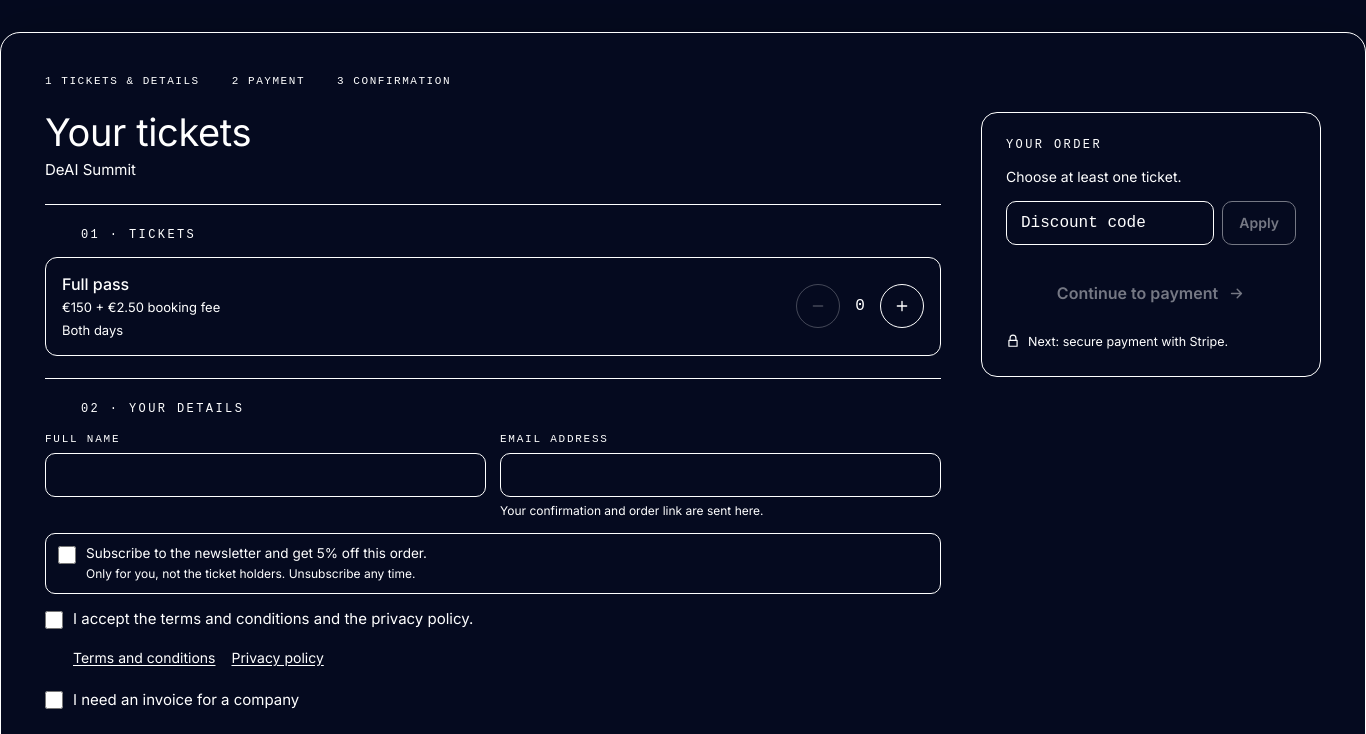
02 · your details — how did you hear about us › asks it (optional) when the site does, with the option labels in the visitor's language, and a text only for 'other'
Click the button named "Add one Full pass" at x=902, y=306, box [880,284,924,328]
(page scrolled)
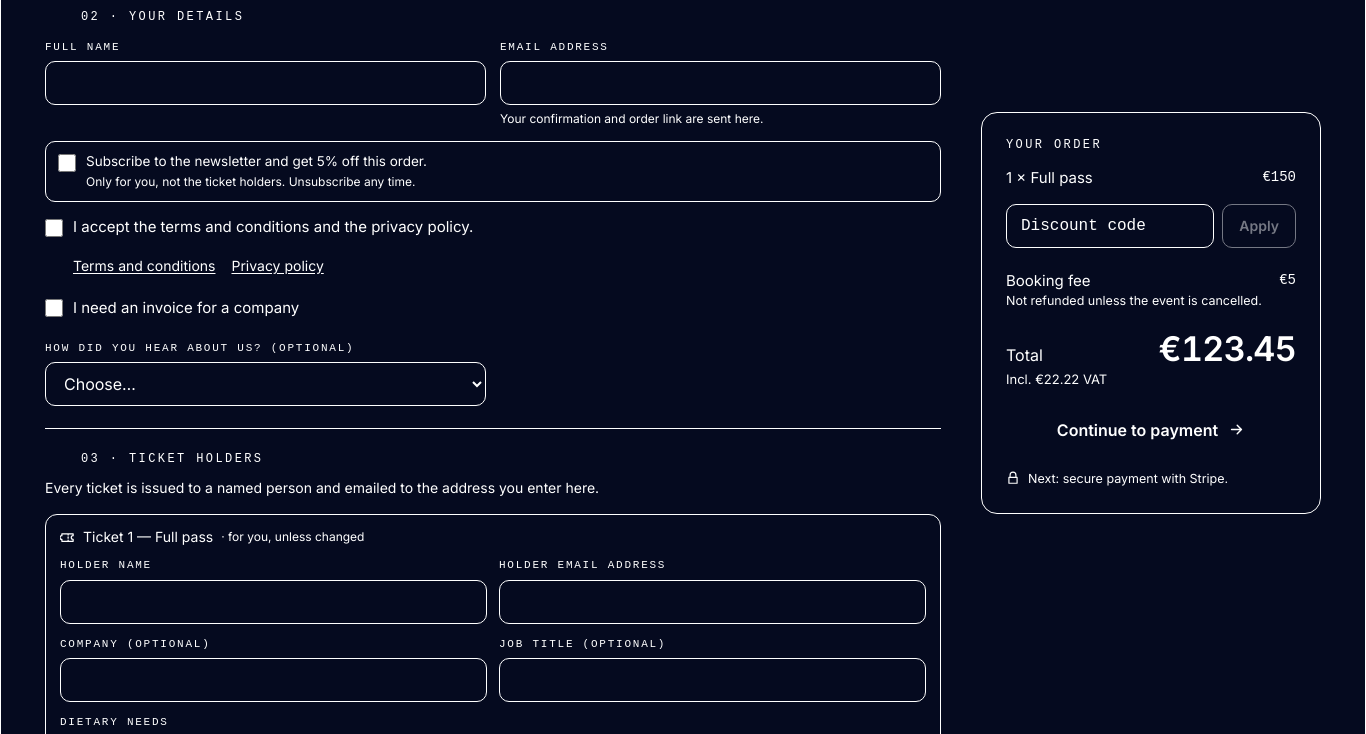
Check: the heading "02 · Your details" is shown, box [81,10,244,24]
Check: the button "Continue to payment" is enabled, box [1006,404,1296,456]
Select "Other" in the dropdown labelled "How did you hear about us? (optional)" at x=266, y=384, box [45,362,486,406]
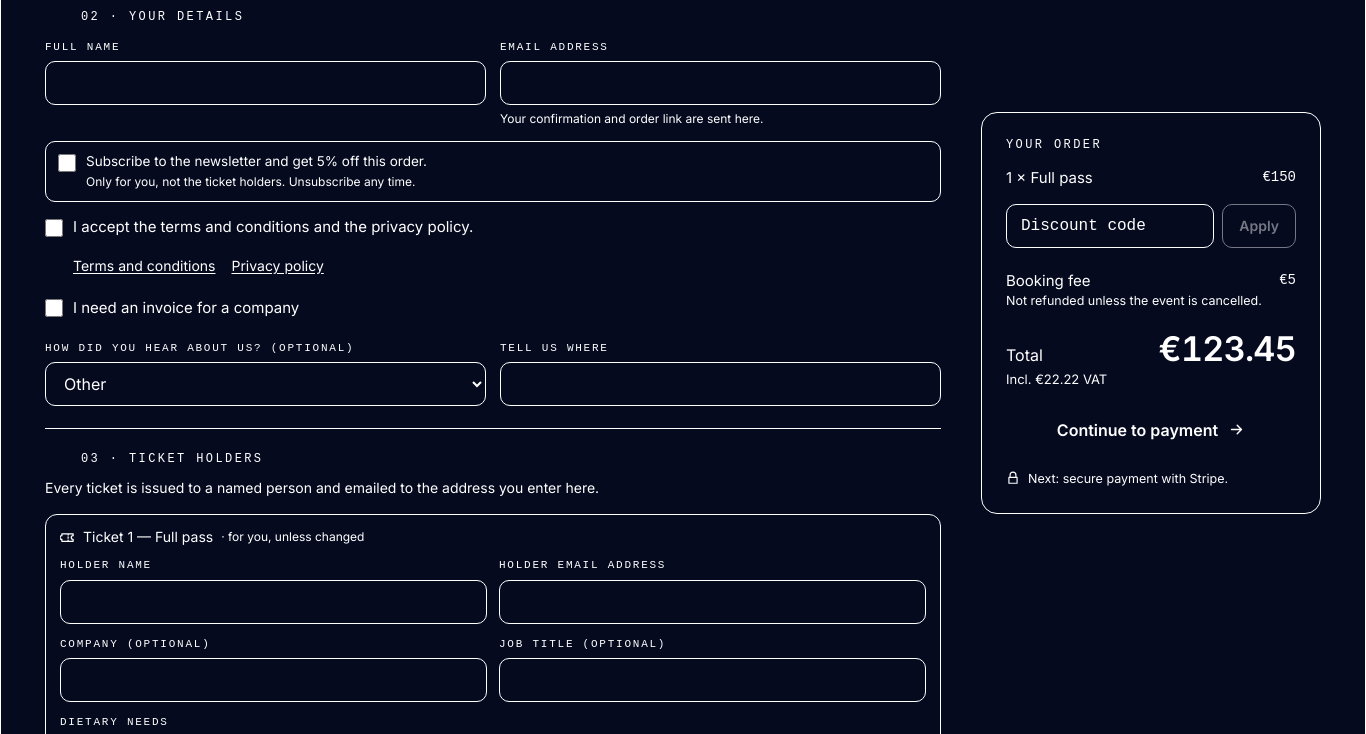
Check: the field labelled "Tell us where" is shown, box [500,362,941,406]
